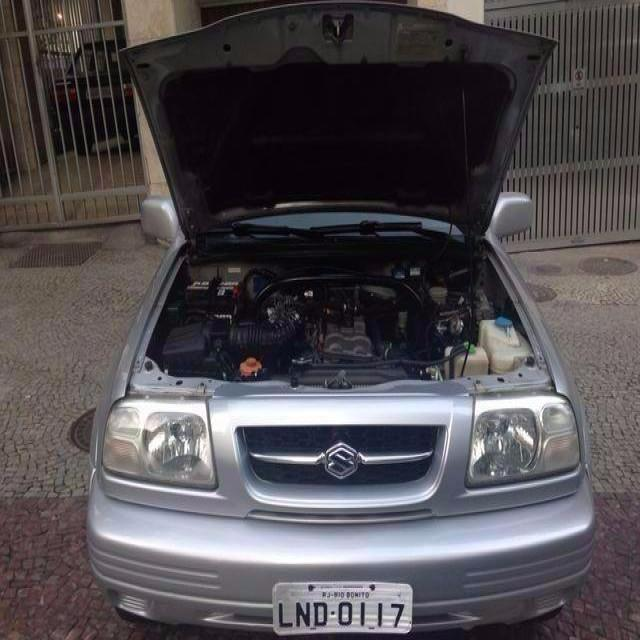Placa: (270, 580, 416, 637)
